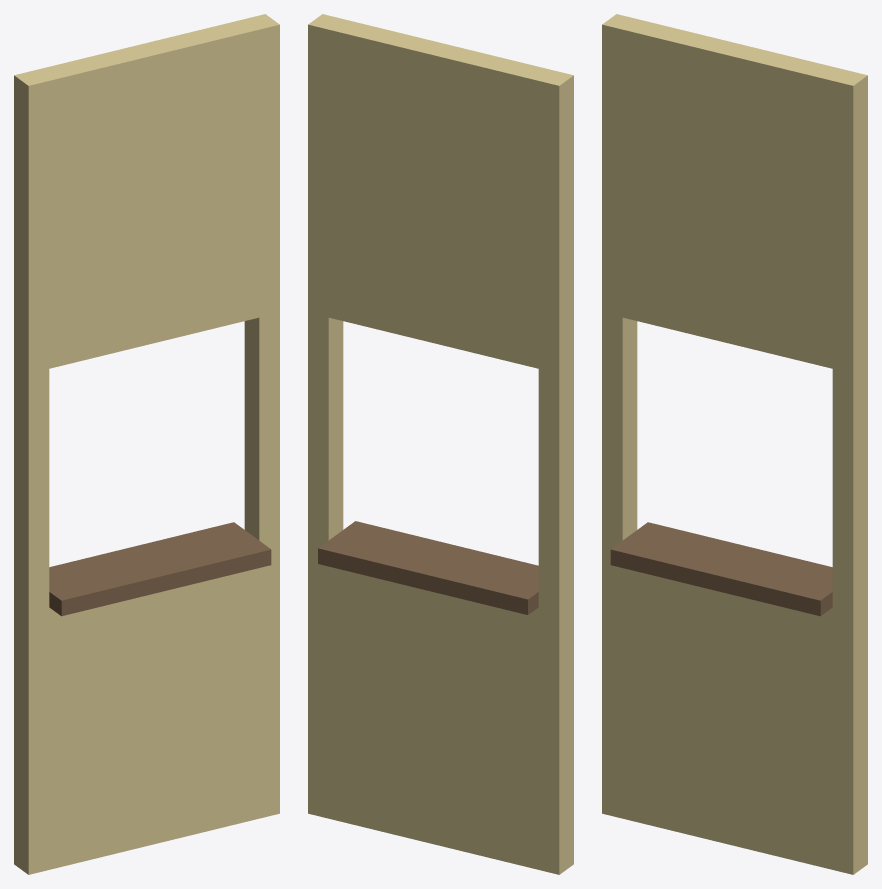
File: Mesh_Wall_I2.fbx
The picture shows the model from 3 angles, left to right: view 1: azimuth 30°, elevation 25°; view 2: azimuth 150°, elevation 25°; view 3: azimuth 330°, elevation 25°; orthographic projection.
Parts seen in each view (by area): view 1: Mesh_Wall_I2; view 2: Mesh_Wall_I2; view 3: Mesh_Wall_I2.
Boxes of the visible parts, x1,y1,x2,y2 form: Mesh_Wall_I2: (14, 14, 279, 874); Mesh_Wall_I2: (308, 14, 573, 874); Mesh_Wall_I2: (602, 14, 867, 874).
Bounding box in the file's own units: 1 × 3 × 0.2574.
